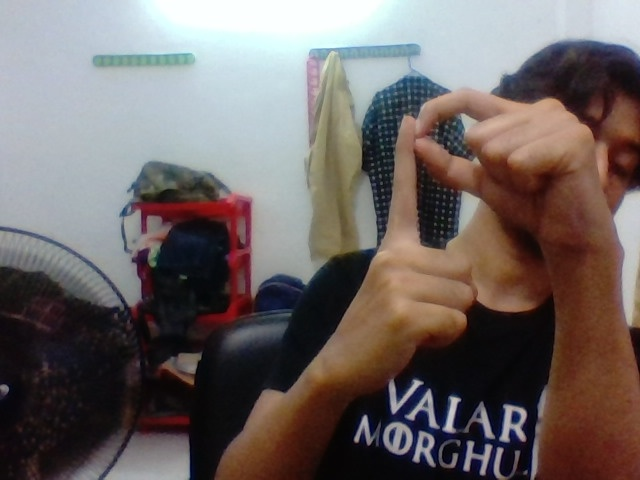P: (370, 75, 583, 347)
